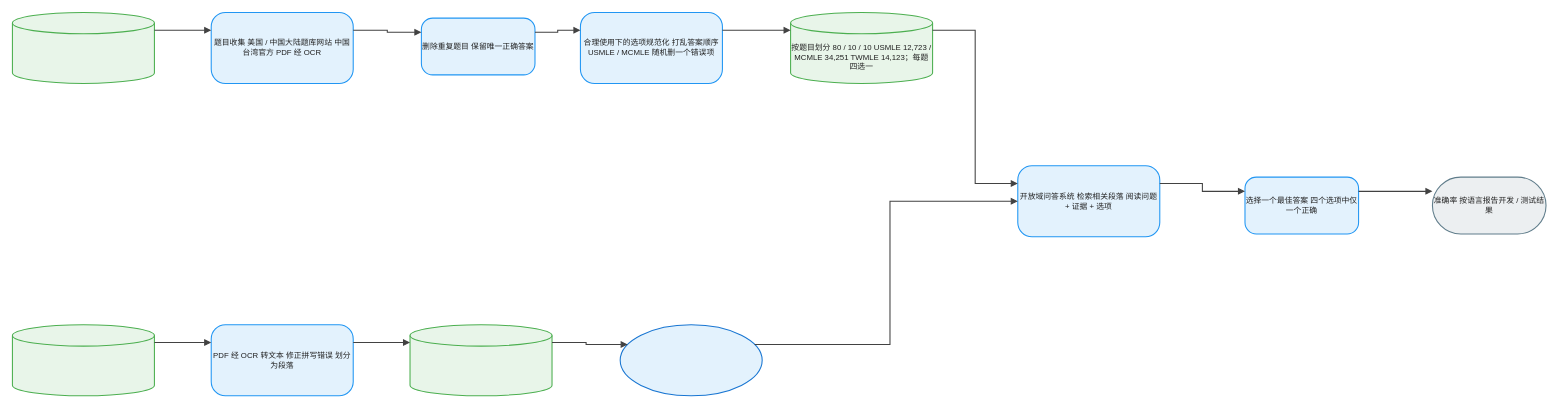
Some shapes in this 1559 by 409 pixel diagram are drawn without their labels. Each missing label, with the centre of its shape:
"专业医学执业考试 USMLE / MCMLE / TWMLE 真题 + 模拟题" goes at [83,48].
"两位医学博士覆盖率审计 每个来源抽 100 道开发题 美国 88% / 大陆 100% / 台湾 87%" goes at [690,360].
"医学教材 USMLE / TWMLE 共用 18 本英文书 MCMLE 使用 33 本简体中文书" goes at [83,360].
"检索语料 英文 231,581 个段落 中文 116,216 个段落" goes at [480,360].
